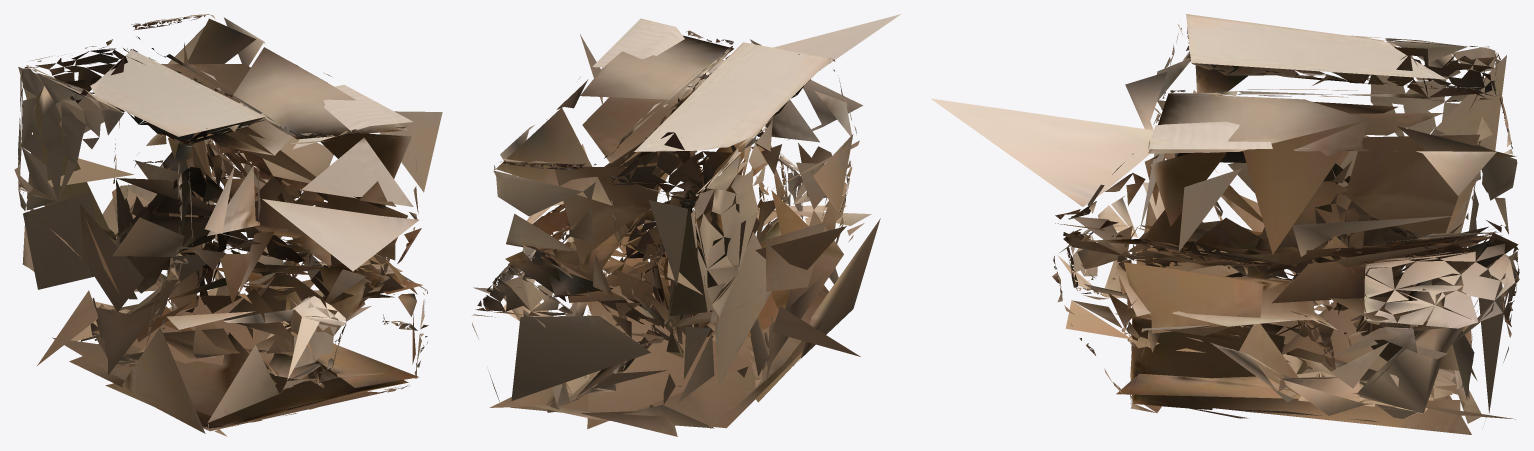
The model's file is box_crush_lod2.glb.
The picture shows the model from 3 angles, left to right: view 1: azimuth 30°, elevation 25°; view 2: azimuth 150°, elevation 25°; view 3: azimuth 270°, elevation 25°; orthographic projection. The views are drawn at different scales.
Parts seen in each view (by area): view 1: node_0; view 2: node_0; view 3: node_0.
Part boxes in pixels (<box>): node_0: <box>14,14,442,436</box>; node_0: <box>472,14,900,436</box>; node_0: <box>931,14,1519,434</box>.
Size of the model in its own units: 1.16 by 1.04 by 1.63.
1 material, 1 textured.
